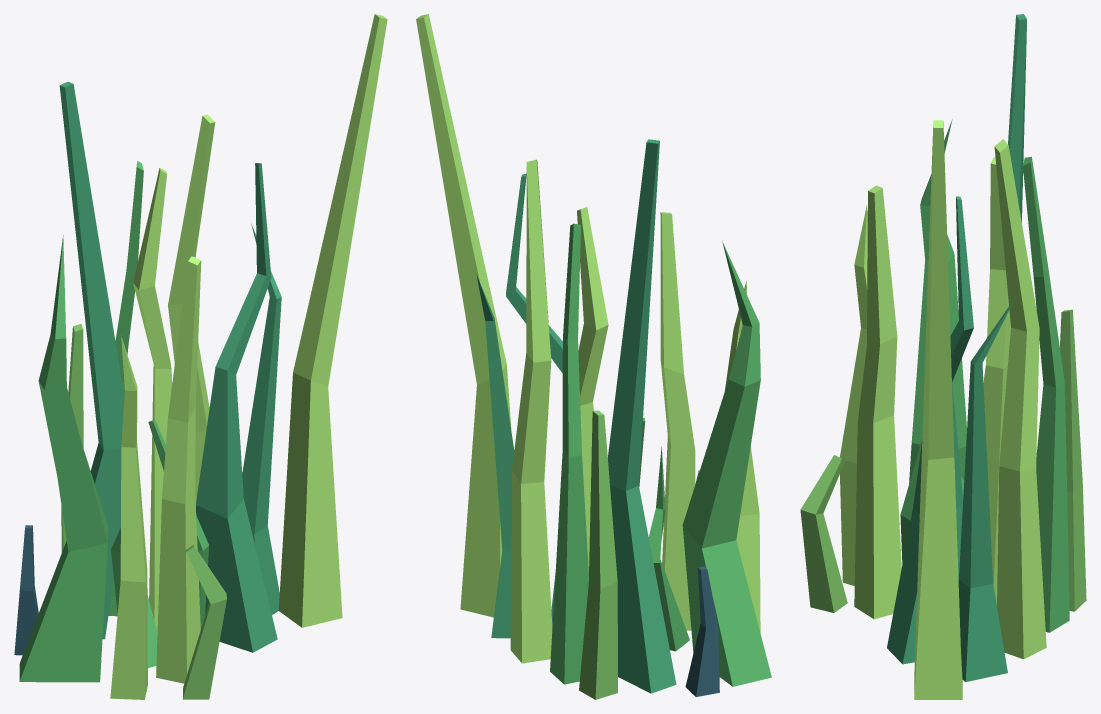
Rendered from Grass_10.fbx.
3 views of the same model, side by side, from view 1: azimuth 30°, elevation 25°; view 2: azimuth 150°, elevation 25°; view 3: azimuth 270°, elevation 25° (orthographic). The views are drawn at different scales.
Parts seen in each view (by area): view 1: Grass_10; view 2: Grass_10; view 3: Grass_10.
Boxes of the visible parts, bbox=[...] form: Grass_10: bbox=[14, 14, 387, 699]; Grass_10: bbox=[416, 14, 771, 699]; Grass_10: bbox=[800, 14, 1086, 699].
Bounding box in the file's own units: 65.25 × 100 × 43.11.
